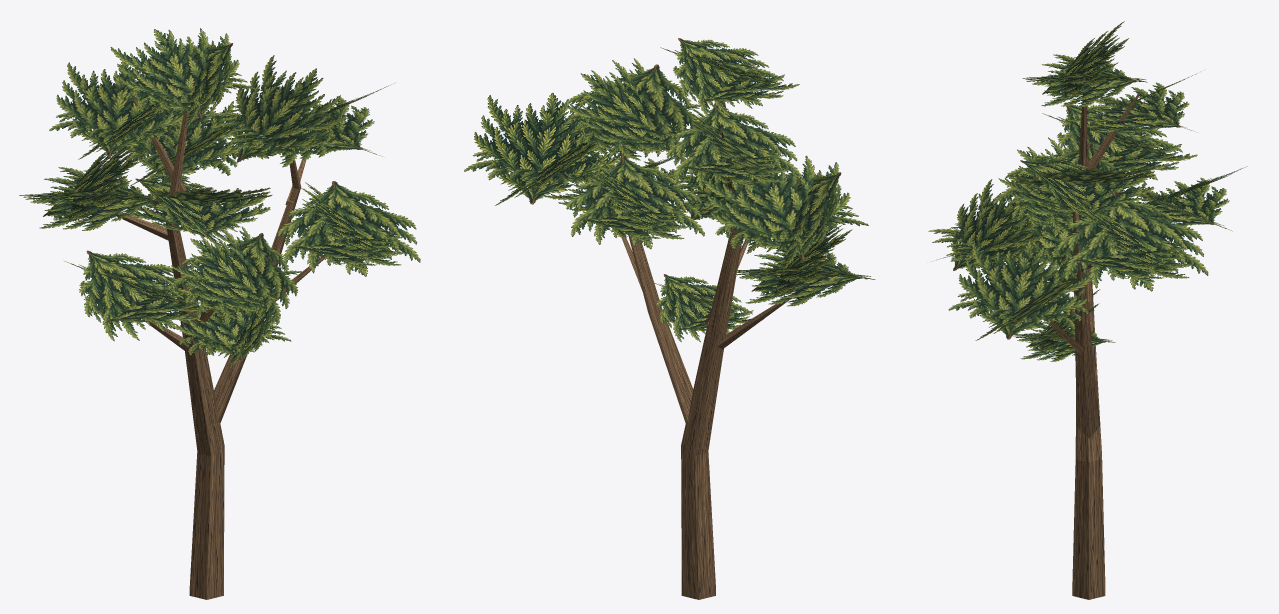
Rendered from Betulla_Test_01.obj.
3 renders of one model, left to right at view 1: azimuth 30°, elevation 25°; view 2: azimuth 150°, elevation 25°; view 3: azimuth 270°, elevation 25°, orthographic. The views are drawn at different scales.
Parts seen in each view (by area): view 1: Betulla_Test_01; view 2: Betulla_Test_01; view 3: Betulla_Test_01.
Part boxes in pixels (x1=…): Betulla_Test_01: x1=19, y1=28, x2=420, y2=599; Betulla_Test_01: x1=464, y1=38, x2=875, y2=599; Betulla_Test_01: x1=928, y1=21, x2=1247, y2=599.
Size of the model in its own units: 5.57 by 7.47 by 4.48.
